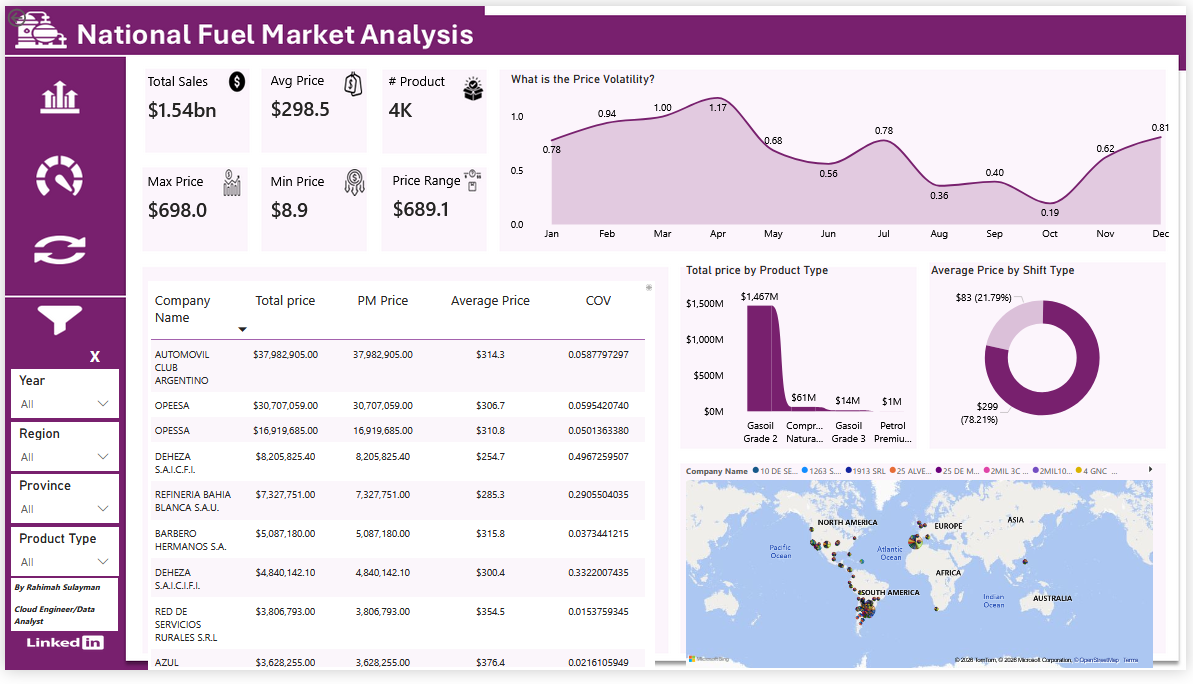

What the dashboard file says about the page in this screenshot:
{"tool":"powerbi","page":{"name":"Performance","canvas":[1920,1080],"ordinal":1},"visuals":[{"type":"slicer","fields":{"Values":["Product_dim.Product Type"]},"box":[10.3,846.3,175,80],"z":0,"group":"g1"},{"type":"image","box":[28.2,989.7,138.5,89.7],"z":0},{"type":"tableEx","fields":{"Values":["Product_dim.Company Name","Calculated measures.Total price","Calculated measures.PM price","Calculated measures.Average Price","Calculated measures.COV"]},"box":[230.8,446.2,825.6,633.3],"z":1000},{"type":"slicer","fields":{"Values":["Date_Dim.Year"]},"box":[10.3,589.9,175,80],"z":1000,"group":"g1"},{"type":"map","fields":{"Category":["Region.City"],"Y":["Avg(Region.Latitude)"],"Series":["Product_dim.Company Name"],"Size":["Calculated measures.Total price"]},"box":[1103.3,733.3,770,346.7],"z":2000},{"type":"slicer","fields":{"Values":["Region.Province"]},"box":[10.3,760.8,175,80],"z":2000,"group":"g1"},{"type":"actionButton","box":[0,0,100,40],"z":3000},{"type":"slicer","fields":{"Values":["Region.Region"]},"box":[10.3,675.4,175,80],"z":3000,"group":"g1"},{"type":"columnChart","fields":{"Y":["Calculated measures.Total price"],"Category":["Product_dim.Product Type"]},"box":[1103.3,416.7,396.7,303.3],"z":4000},{"type":"lineChart","title":"What is the Price Volatility? ","fields":{"Category":["Date_Dim.Month"],"Y":["Calculated measures.COV"]},"box":[816.7,106.7,1103.3,283.3],"z":5000},{"type":"donutChart","fields":{"Category":["Fact_table.Shift Type"],"Y":["Calculated measures.Average Price"]},"box":[1500,416.7,373.3,286.7],"z":6000},{"type":"cardVisual","fields":{"Data":["Calculated measures.Max Price"]},"box":[202.6,228.2,241,161.5],"z":7000},{"type":"cardVisual","fields":{"Data":["Calculated measures.Price Range"]},"box":[600,228.2,241,159],"z":8000},{"type":"cardVisual","fields":{"Data":["Calculated measures.Min Price"]},"box":[402.6,228.2,241,161.5],"z":9000},{"type":"cardVisual","fields":{"Data":["Calculated measures.Total price"]},"box":[202.6,69.2,241,159],"z":10000},{"type":"cardVisual","fields":{"Data":["Calculated measures.Average Price"]},"box":[402.6,66.7,241,161.5],"z":11000},{"type":"actionButton","title":"X","box":[102.6,541,87.2,56.4],"z":12000},{"type":"actionButton","box":[28.2,1010.3,120.5,43.6],"z":13000},{"type":"actionButton","title":"Reset","box":[28.2,343.6,117.9,94.9],"z":14000},{"type":"actionButton","title":"Filter","box":[28.2,471.8,117.9,69.2],"z":15000},{"type":"pageNavigator","box":[30.8,110.3,117.9,212.8],"z":16000},{"type":"group","id":"g1","title":"Group 1","box":[10.3,589.9,175,336.4],"z":17000},{"type":"cardVisual","fields":{"Data":["Calculated measures.Product Count"]},"box":[600,69.2,241,159],"z":18000},{"type":"textbox","box":[10.3,928.2,174.4,87.2],"z":19000}]}

Visuals, with their boxes in screenshot pixels (x1, y1, x2, y2), scaled from the page's 1920x1080 canvas onto the 1193x684 screenshot:
slicer - Product_dim.Product Type: <region>6, 536, 115, 587</region>
image: <region>18, 627, 104, 683</region>
tableEx - Product_dim.Company Name x Calculated measures.Total price: <region>143, 283, 656, 683</region>
slicer - Date_Dim.Year: <region>6, 374, 115, 424</region>
map - Region.City x Avg(Region.Latitude): <region>686, 464, 1164, 683</region>
slicer - Region.Province: <region>6, 482, 115, 533</region>
actionButton: <region>0, 0, 62, 25</region>
slicer - Region.Region: <region>6, 428, 115, 478</region>
columnChart - Calculated measures.Total price x Product_dim.Product Type: <region>686, 264, 932, 456</region>
"What is the Price Volatility? " lineChart: <region>507, 68, 1192, 247</region>
donutChart - Fact_table.Shift Type x Calculated measures.Average Price: <region>932, 264, 1164, 445</region>
cardVisual - Calculated measures.Max Price: <region>126, 145, 276, 247</region>
cardVisual - Calculated measures.Price Range: <region>373, 145, 523, 245</region>
cardVisual - Calculated measures.Min Price: <region>250, 145, 400, 247</region>
cardVisual - Calculated measures.Total price: <region>126, 44, 276, 145</region>
cardVisual - Calculated measures.Average Price: <region>250, 42, 400, 145</region>
"X" actionButton: <region>64, 343, 118, 378</region>
actionButton: <region>18, 640, 92, 667</region>
"Reset" actionButton: <region>18, 218, 91, 278</region>
"Filter" actionButton: <region>18, 299, 91, 343</region>
pageNavigator: <region>19, 70, 92, 205</region>
"Group 1" group: <region>6, 374, 115, 587</region>
cardVisual - Calculated measures.Product Count: <region>373, 44, 523, 145</region>
textbox: <region>6, 588, 115, 643</region>
